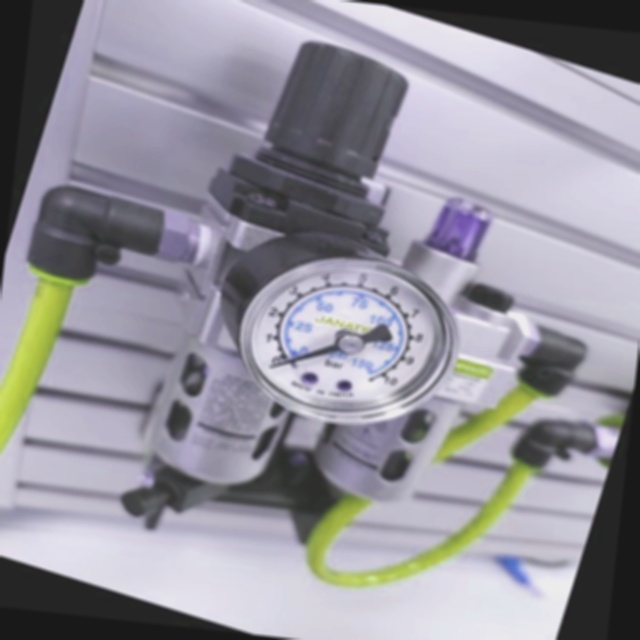FRL unit: (0, 0, 640, 640)
push button: (186, 202, 488, 459)
